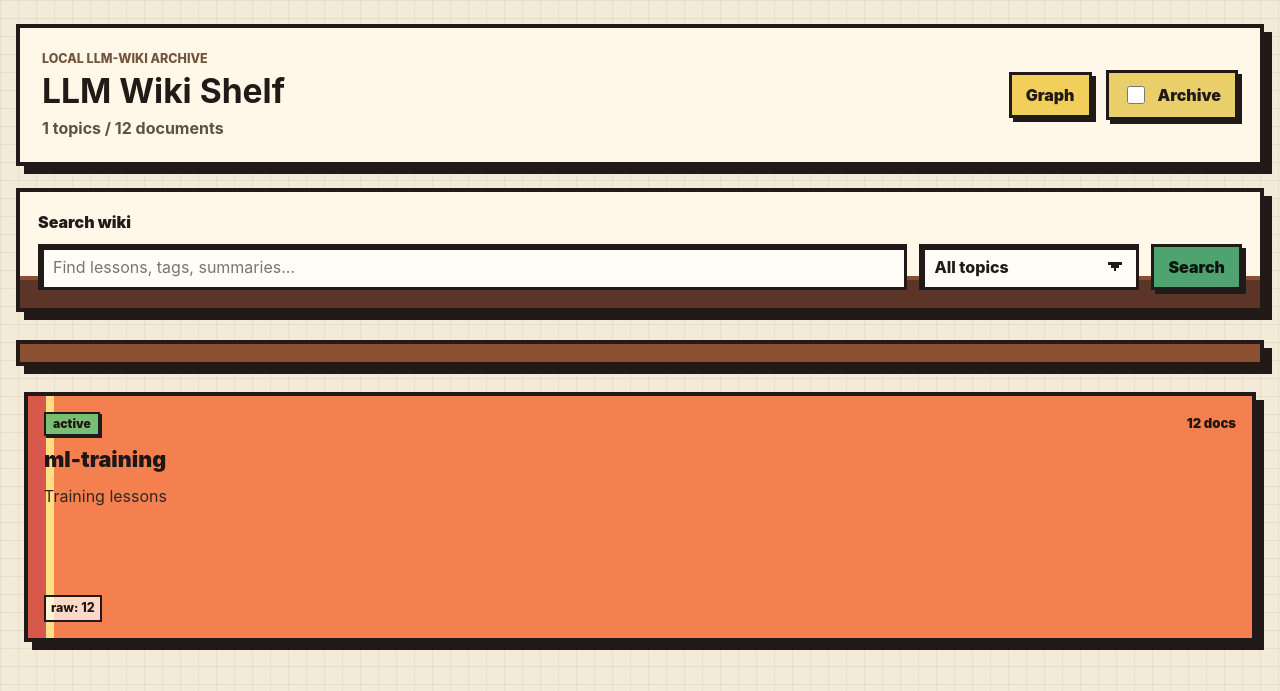
Scenario: App › paginates search results
In the search field labelled "Search wiki": (473, 267) [38,244,908,290], type "result"
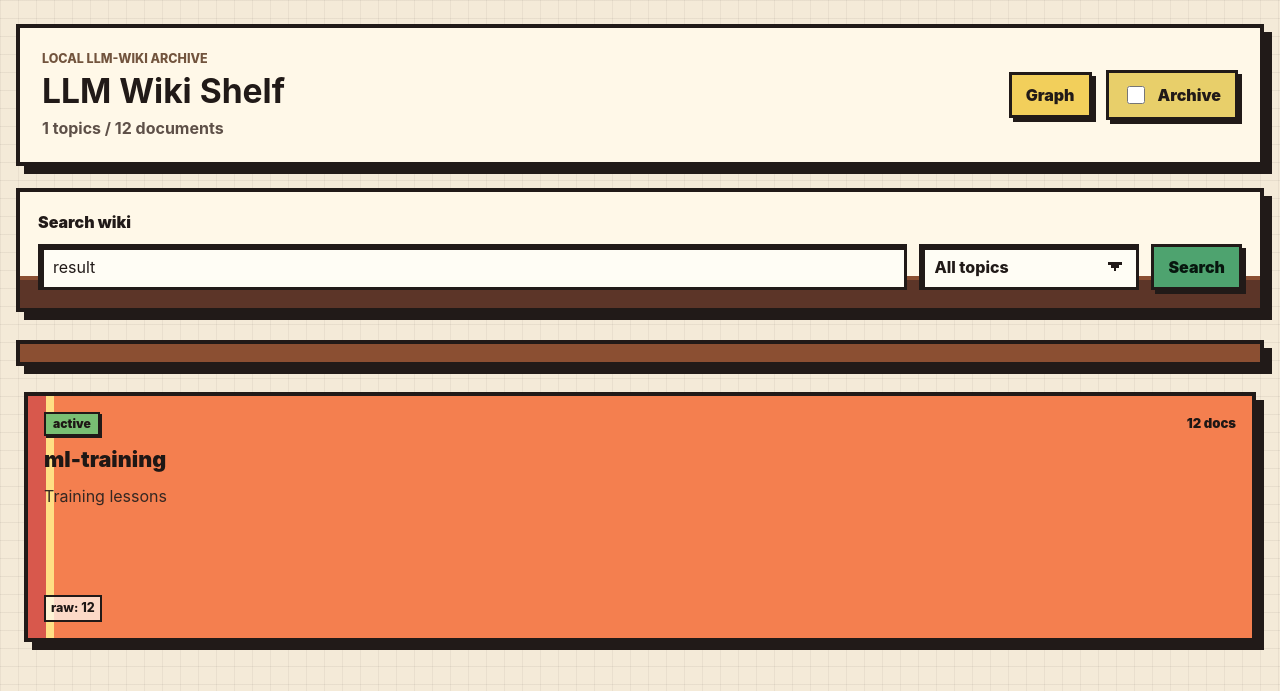
Click the button "Search": (1197, 267) [1152,244,1242,290]
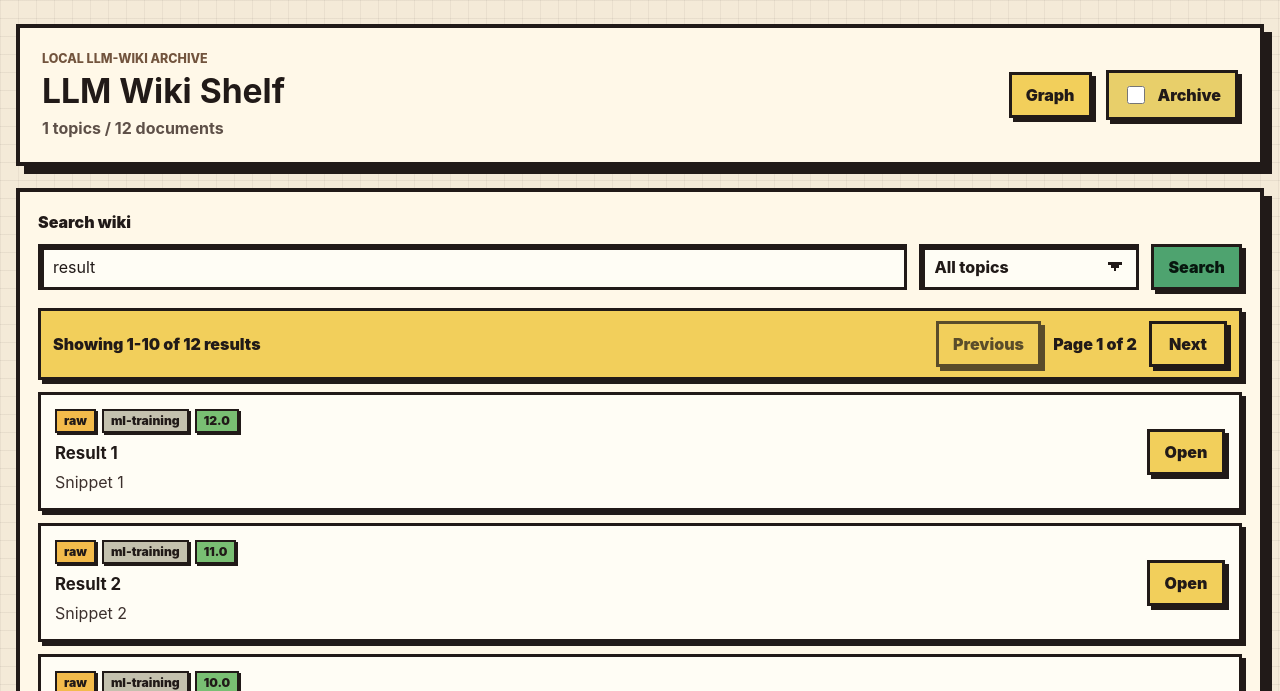
Check: the heading "Result 1" is shown, box [55,443,118,463]
Check: the text "Showing 1-10 of 12 results" is shown, box [53,332,260,356]
Check: the button with aria-label "Previous page" is disabled, box [936,321,1041,367]
Click the button with aria-label "Next page": (1188, 344) [1149,321,1227,367]
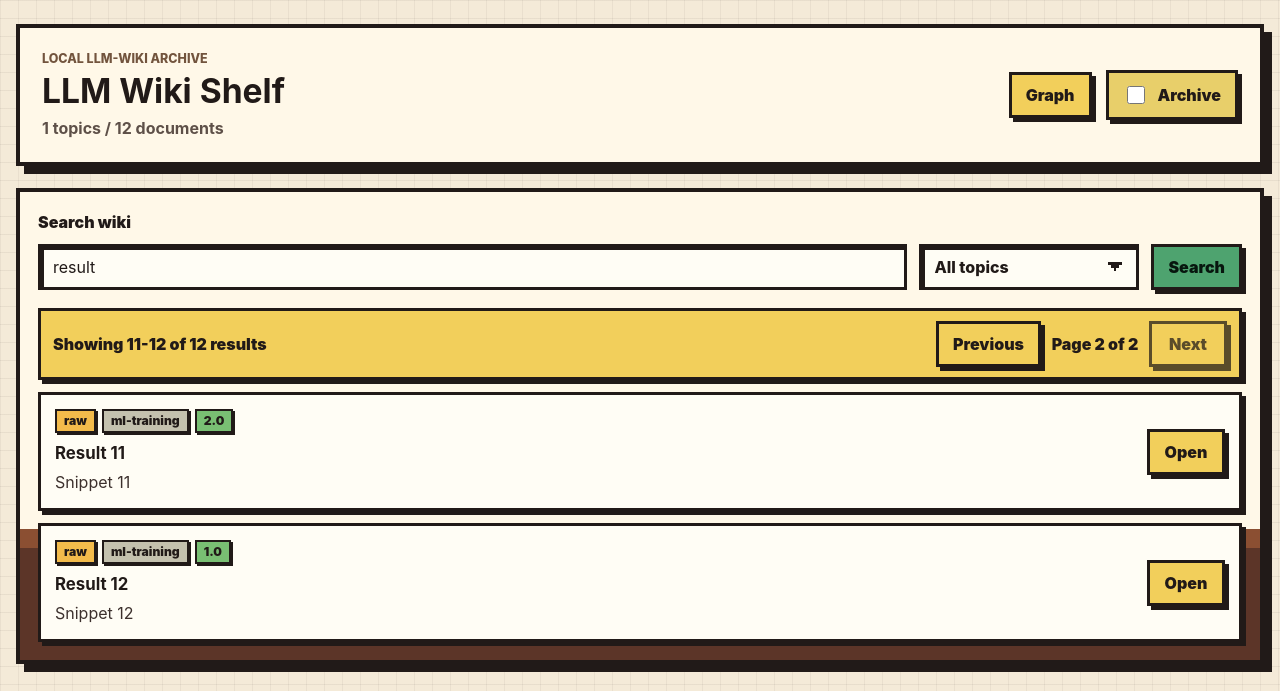
Check: the heading "Result 11" is shown, box [55,443,125,463]
Check: the text "Showing 11-12 of 12 results" is shown, box [53,332,267,356]
Click the button with aria-label "Previous page": (988, 344) [936,321,1041,367]
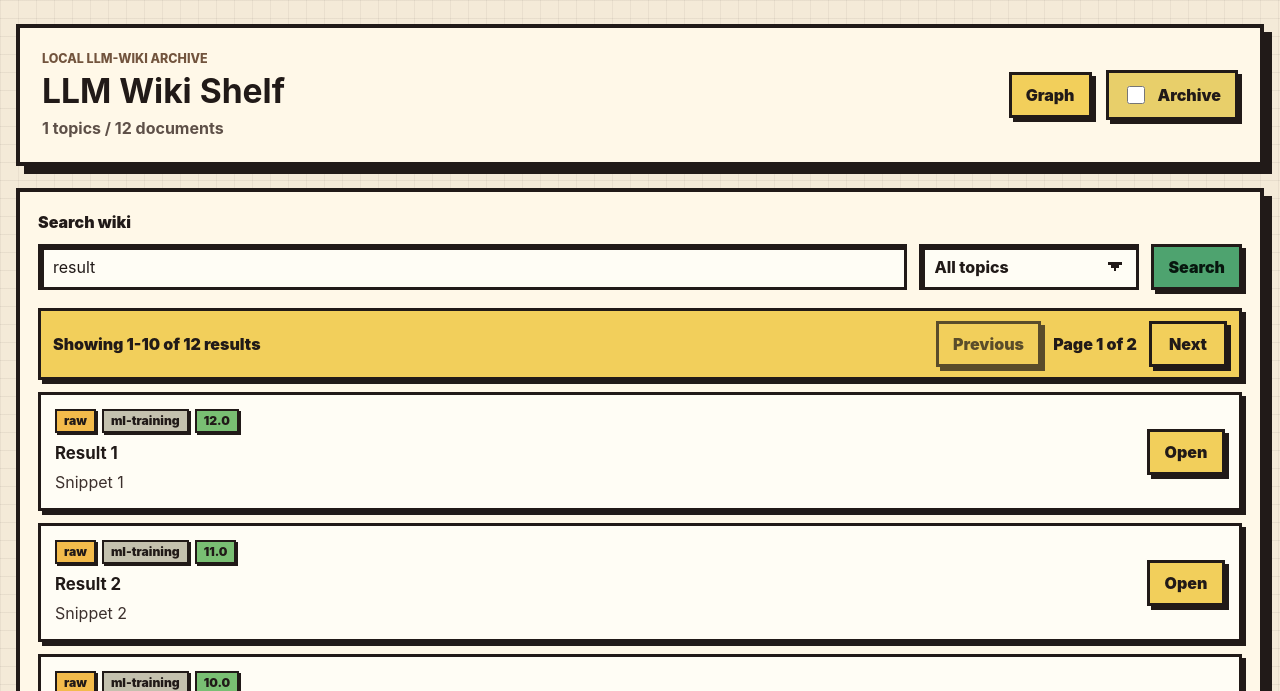
Check: the heading "Result 1" is shown, box [55,443,118,463]
Check: the heading "Result 11" is gone
